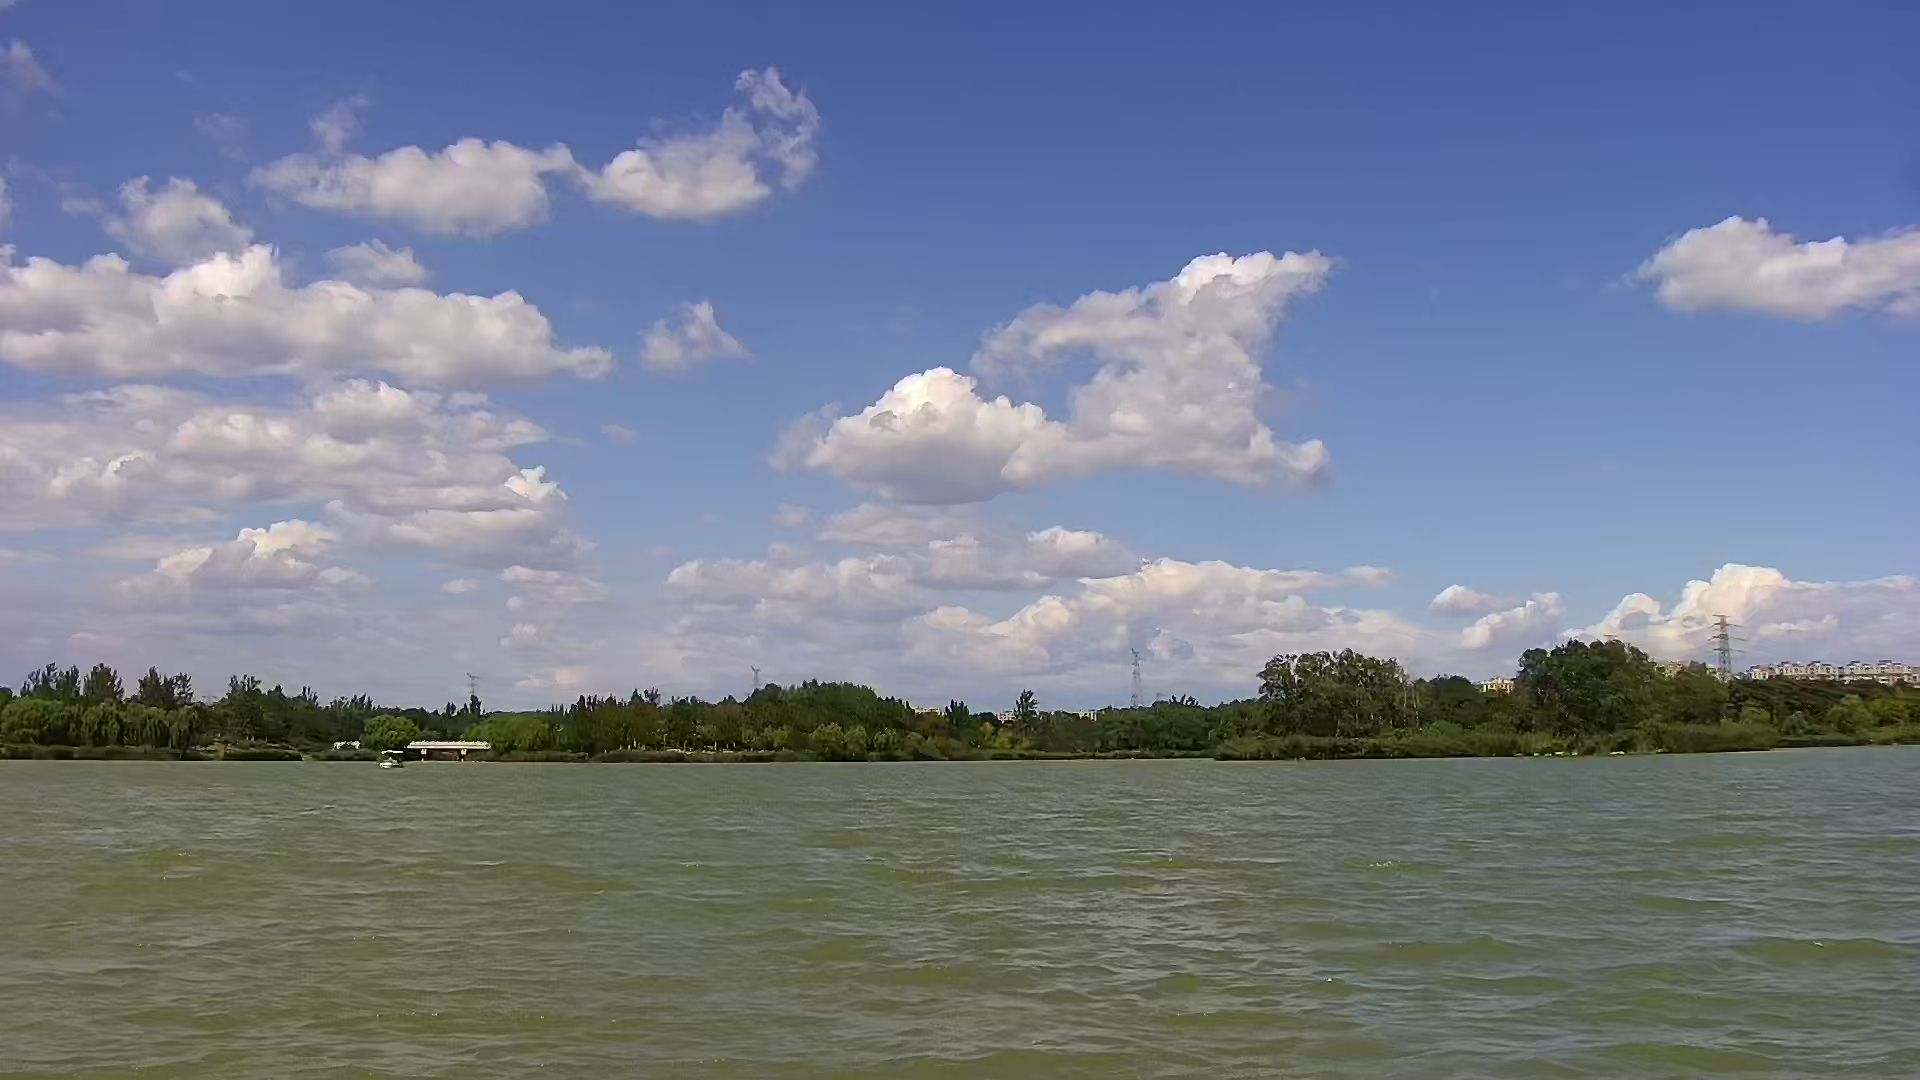boat: (369, 742, 417, 775)
bridge: (407, 736, 493, 758)
